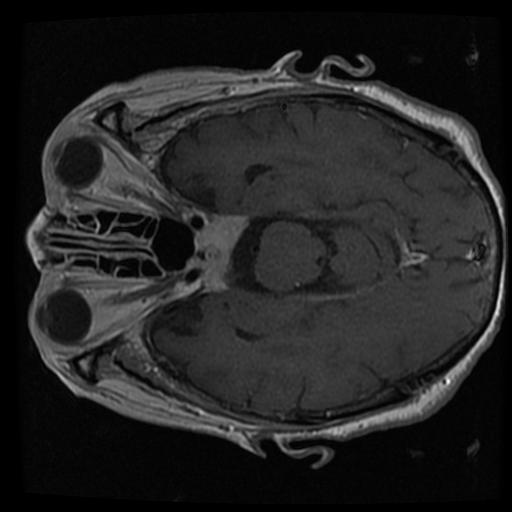pituitary tumour: (193, 217, 248, 291)
